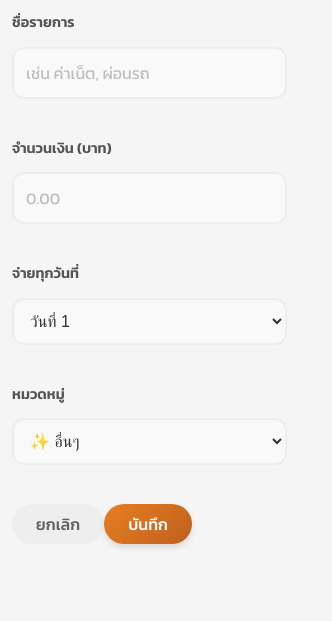
Test: BillBookForm Component › shows error messages for invalid input
Click the button "บันทึก" at (148, 524), box x1=104 y1=504 x2=192 y2=544
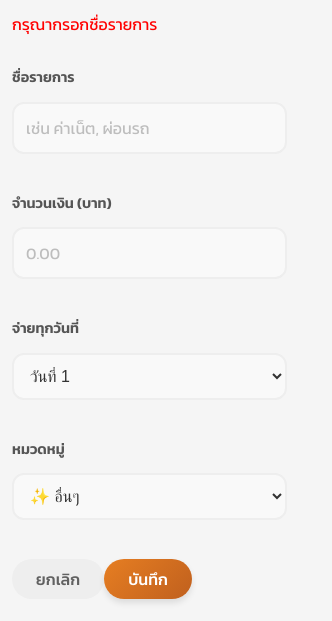
Check: the text "กรุณากรอกชื่อรายการ" is shown, box x1=12 y1=12 x2=157 y2=36
